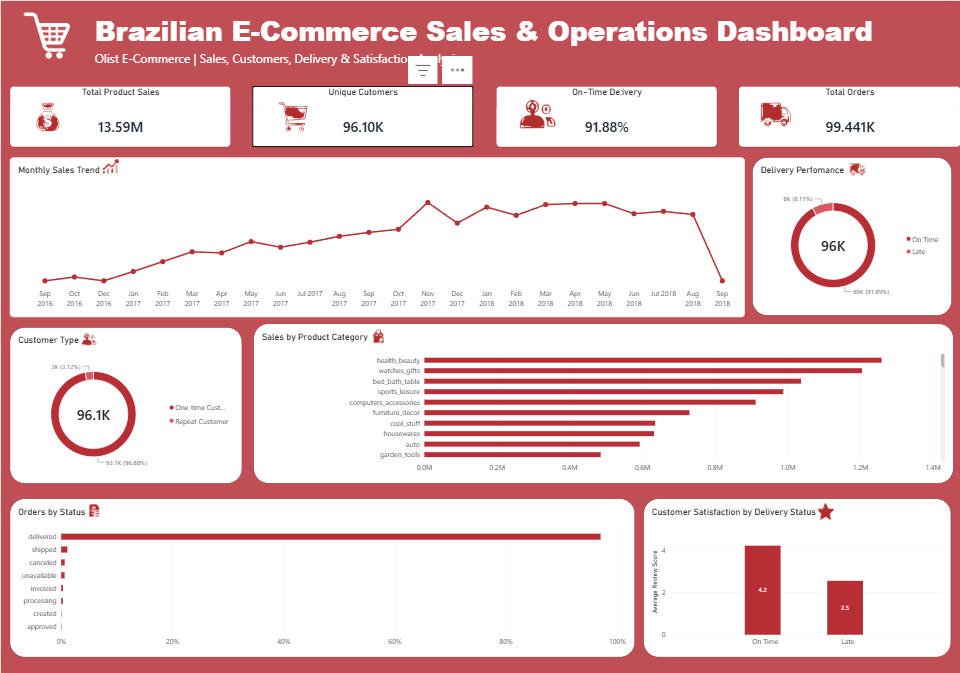

What the dashboard file says about the page in this screenshot:
{"tool":"powerbi","page":{"name":"Page 1","canvas":[1920,1350],"ordinal":0},"visuals":[{"type":"cardVisual","title":"Total Product Sales","fields":{"Data":["Sum(public v_olist_analysis.price)"]},"box":[17.5,170,442.5,122.5],"z":0},{"type":"cardVisual","title":"Total Orders","fields":{"Data":["Count(public v_olist_analysis.order_id)"]},"box":[1475,170,445,122.5],"z":1000},{"type":"cardVisual","title":"Unique Cutomers","fields":{"Data":["Count(OlistAnalysis.customer_unique_id)"]},"box":[503.3,170,442.5,122.5],"z":2000},{"type":"cardVisual","title":"On-Time De;ivery","fields":{"Data":["OlistAnalysis.On-Time Delivery %"]},"box":[989.2,170,442.5,122.5],"z":3000},{"type":"lineChart","title":"          Monthly Sales Trend","fields":{"Category":["OlistAnalysis.Month Year"],"Y":["Sum(OlistAnalysis.price)"]},"box":[16.7,313.3,1470,320],"z":4000},{"type":"clusteredBarChart","title":"Sales by Product Category","fields":{"Category":["OlistAnalysis.product_category"],"Y":["Sum(OlistAnalysis.price)"]},"box":[505,645,1400,320],"z":5000},{"type":"donutChart","title":"Delivery Perfomance","fields":{"Category":["OlistAnalysis.delivery_status"],"Y":["OlistAnalysis.Total Order"]},"box":[1503.3,313.3,398.8,316.5],"z":6000},{"type":"clusteredColumnChart","title":"Customer Satisfaction by Delivery Status","fields":{"Category":["OlistAnalysis.delivery_status"],"Y":["Avg(OlistAnalysis.average_review_score)"]},"box":[1284.5,995.5,615.5,317.3],"z":7000},{"type":"donutChart","title":"Customer Type","fields":{"Category":["OlistAnalysis.Customer Type"],"Y":["Count(OlistAnalysis.customer_unique_id)"]},"box":[17.5,652.5,465,312.5],"z":8000},{"type":"clusteredBarChart","title":"Orders by Status","fields":{"Category":["OlistAnalysis.order_status"],"Y":["OlistAnalysis.Total Order"]},"box":[17.5,995,1250,317.5],"z":9000},{"type":"textbox","box":[186.7,23.3,1713.3,120],"z":10000},{"type":"image","box":[32.7,180.9,113.6,98.2],"z":11000},{"type":"image","box":[504,170,130,110],"z":12000},{"type":"image","box":[960,84,186,212],"z":13000},{"type":"image","box":[1458,170,150,110],"z":14000},{"type":"image","box":[176.7,313.3,83.3,85.6],"z":15000},{"type":"image","box":[713.6,618.2,76.7,81.1],"z":16000},{"type":"image","box":[1602.7,956.4,94.4,94.4],"z":17000},{"type":"image","box":[1651.7,321.7,91.7,68.3],"z":18000},{"type":"image","box":[118.2,621.8,100,78.3],"z":19000},{"type":"image","box":[136.4,972.7,90.9,71.8],"z":20000},{"type":"image","box":[33.3,23.3,118,93],"z":20001}]}

Visuals, with their boxes in screenshot pixels (x1, y1, x2, y2), scaled from the page's 1920x1350 canvas onto the 960x673 screenshot:
"Total Product Sales" cardVisual: box(9, 85, 230, 146)
"Total Orders" cardVisual: box(738, 85, 959, 146)
"Unique Cutomers" cardVisual: box(252, 85, 473, 146)
"On-Time De;ivery" cardVisual: box(495, 85, 716, 146)
"          Monthly Sales Trend" lineChart: box(8, 156, 743, 316)
"Sales by Product Category" clusteredBarChart: box(252, 322, 952, 481)
"Delivery Perfomance" donutChart: box(752, 156, 951, 314)
"Customer Satisfaction by Delivery Status" clusteredColumnChart: box(642, 496, 950, 654)
"Customer Type" donutChart: box(9, 325, 241, 481)
"Orders by Status" clusteredBarChart: box(9, 496, 634, 654)
textbox: box(93, 12, 950, 71)
image: box(16, 90, 73, 139)
image: box(252, 85, 317, 140)
image: box(480, 42, 573, 148)
image: box(729, 85, 804, 140)
image: box(88, 156, 130, 199)
image: box(357, 308, 395, 349)
image: box(801, 477, 849, 524)
image: box(826, 160, 872, 194)
image: box(59, 310, 109, 349)
image: box(68, 485, 114, 521)
image: box(17, 12, 76, 58)
